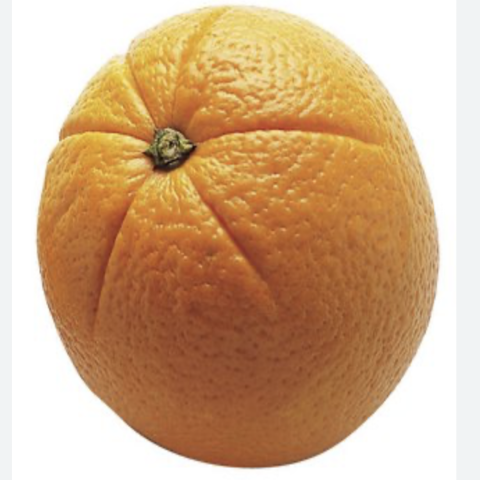orange: (0, 2, 453, 475)
